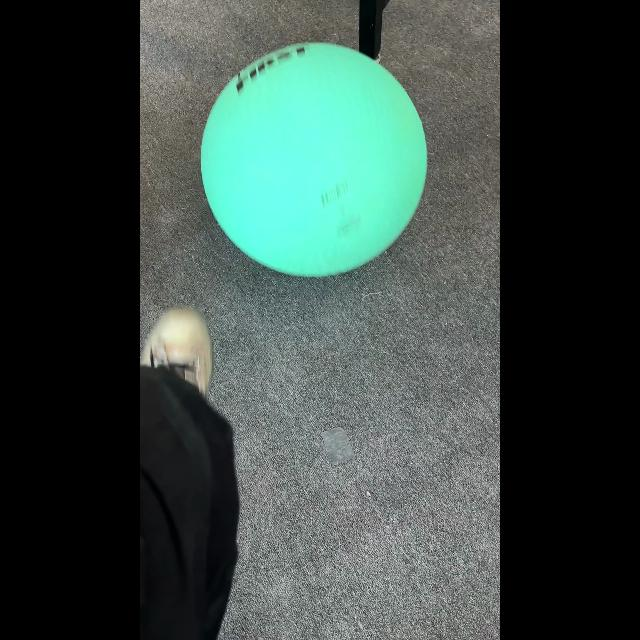ALGAE: (200, 41, 428, 278)
